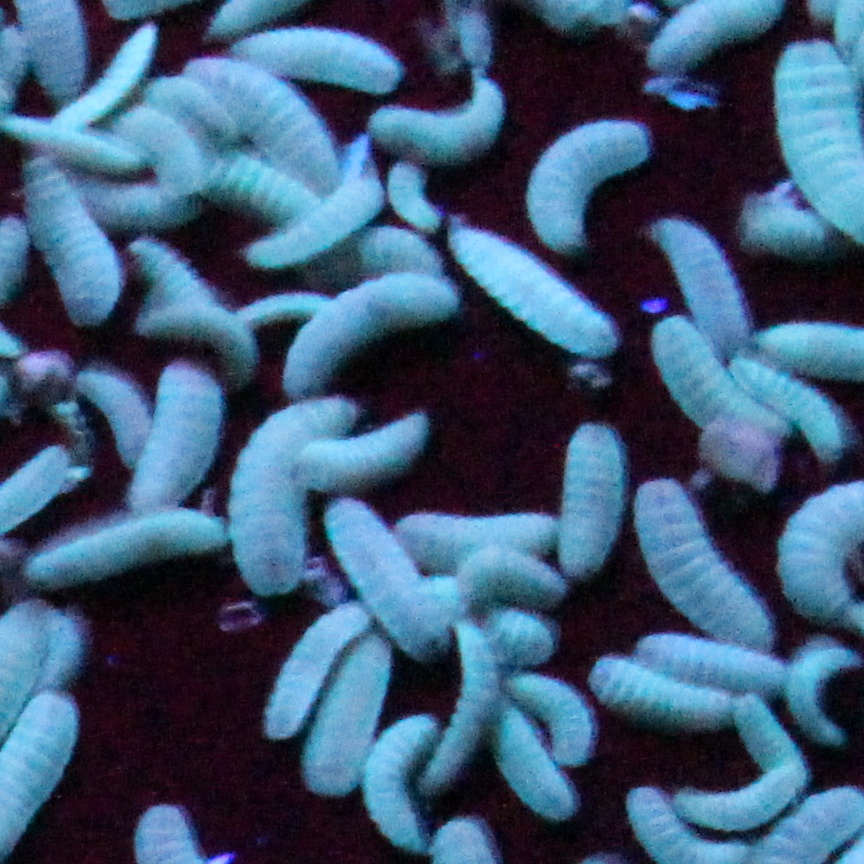larve: (208, 392, 386, 597), (446, 217, 643, 357), (298, 230, 461, 392), (631, 477, 773, 645), (313, 495, 456, 655), (196, 60, 348, 195), (133, 352, 236, 532), (633, 317, 781, 440), (18, 147, 123, 315), (536, 112, 651, 250), (26, 517, 253, 585), (301, 635, 396, 795), (268, 595, 368, 740), (38, 20, 168, 130), (696, 700, 813, 822), (366, 65, 513, 162), (548, 417, 638, 570), (363, 720, 458, 852), (726, 360, 851, 460), (626, 615, 791, 690), (651, 212, 751, 332), (596, 650, 748, 720), (643, 5, 793, 70), (118, 240, 226, 320), (506, 677, 598, 757)
